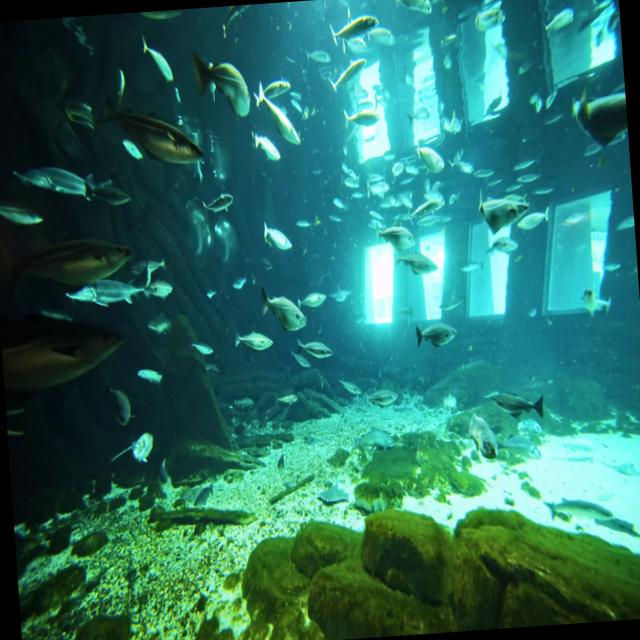fish: (0, 308, 133, 406), (0, 218, 143, 303), (100, 77, 204, 180), (11, 140, 134, 226), (52, 253, 146, 321), (192, 41, 255, 128), (570, 84, 629, 158), (92, 425, 166, 483), (250, 81, 306, 155), (476, 184, 534, 243), (252, 278, 310, 336), (493, 380, 556, 430), (325, 12, 387, 58), (409, 126, 453, 184), (323, 54, 370, 107), (375, 216, 428, 262), (138, 31, 180, 86), (0, 190, 45, 241), (60, 84, 102, 138), (95, 376, 134, 434), (388, 0, 455, 33), (222, 319, 273, 359), (248, 120, 286, 172), (416, 316, 462, 358), (399, 245, 445, 285), (262, 218, 300, 263), (294, 282, 334, 324), (340, 99, 382, 139), (138, 306, 176, 350), (541, 0, 577, 43), (124, 363, 170, 392), (296, 332, 336, 364), (518, 197, 555, 231), (484, 230, 525, 260), (186, 334, 219, 364), (205, 186, 236, 208)
